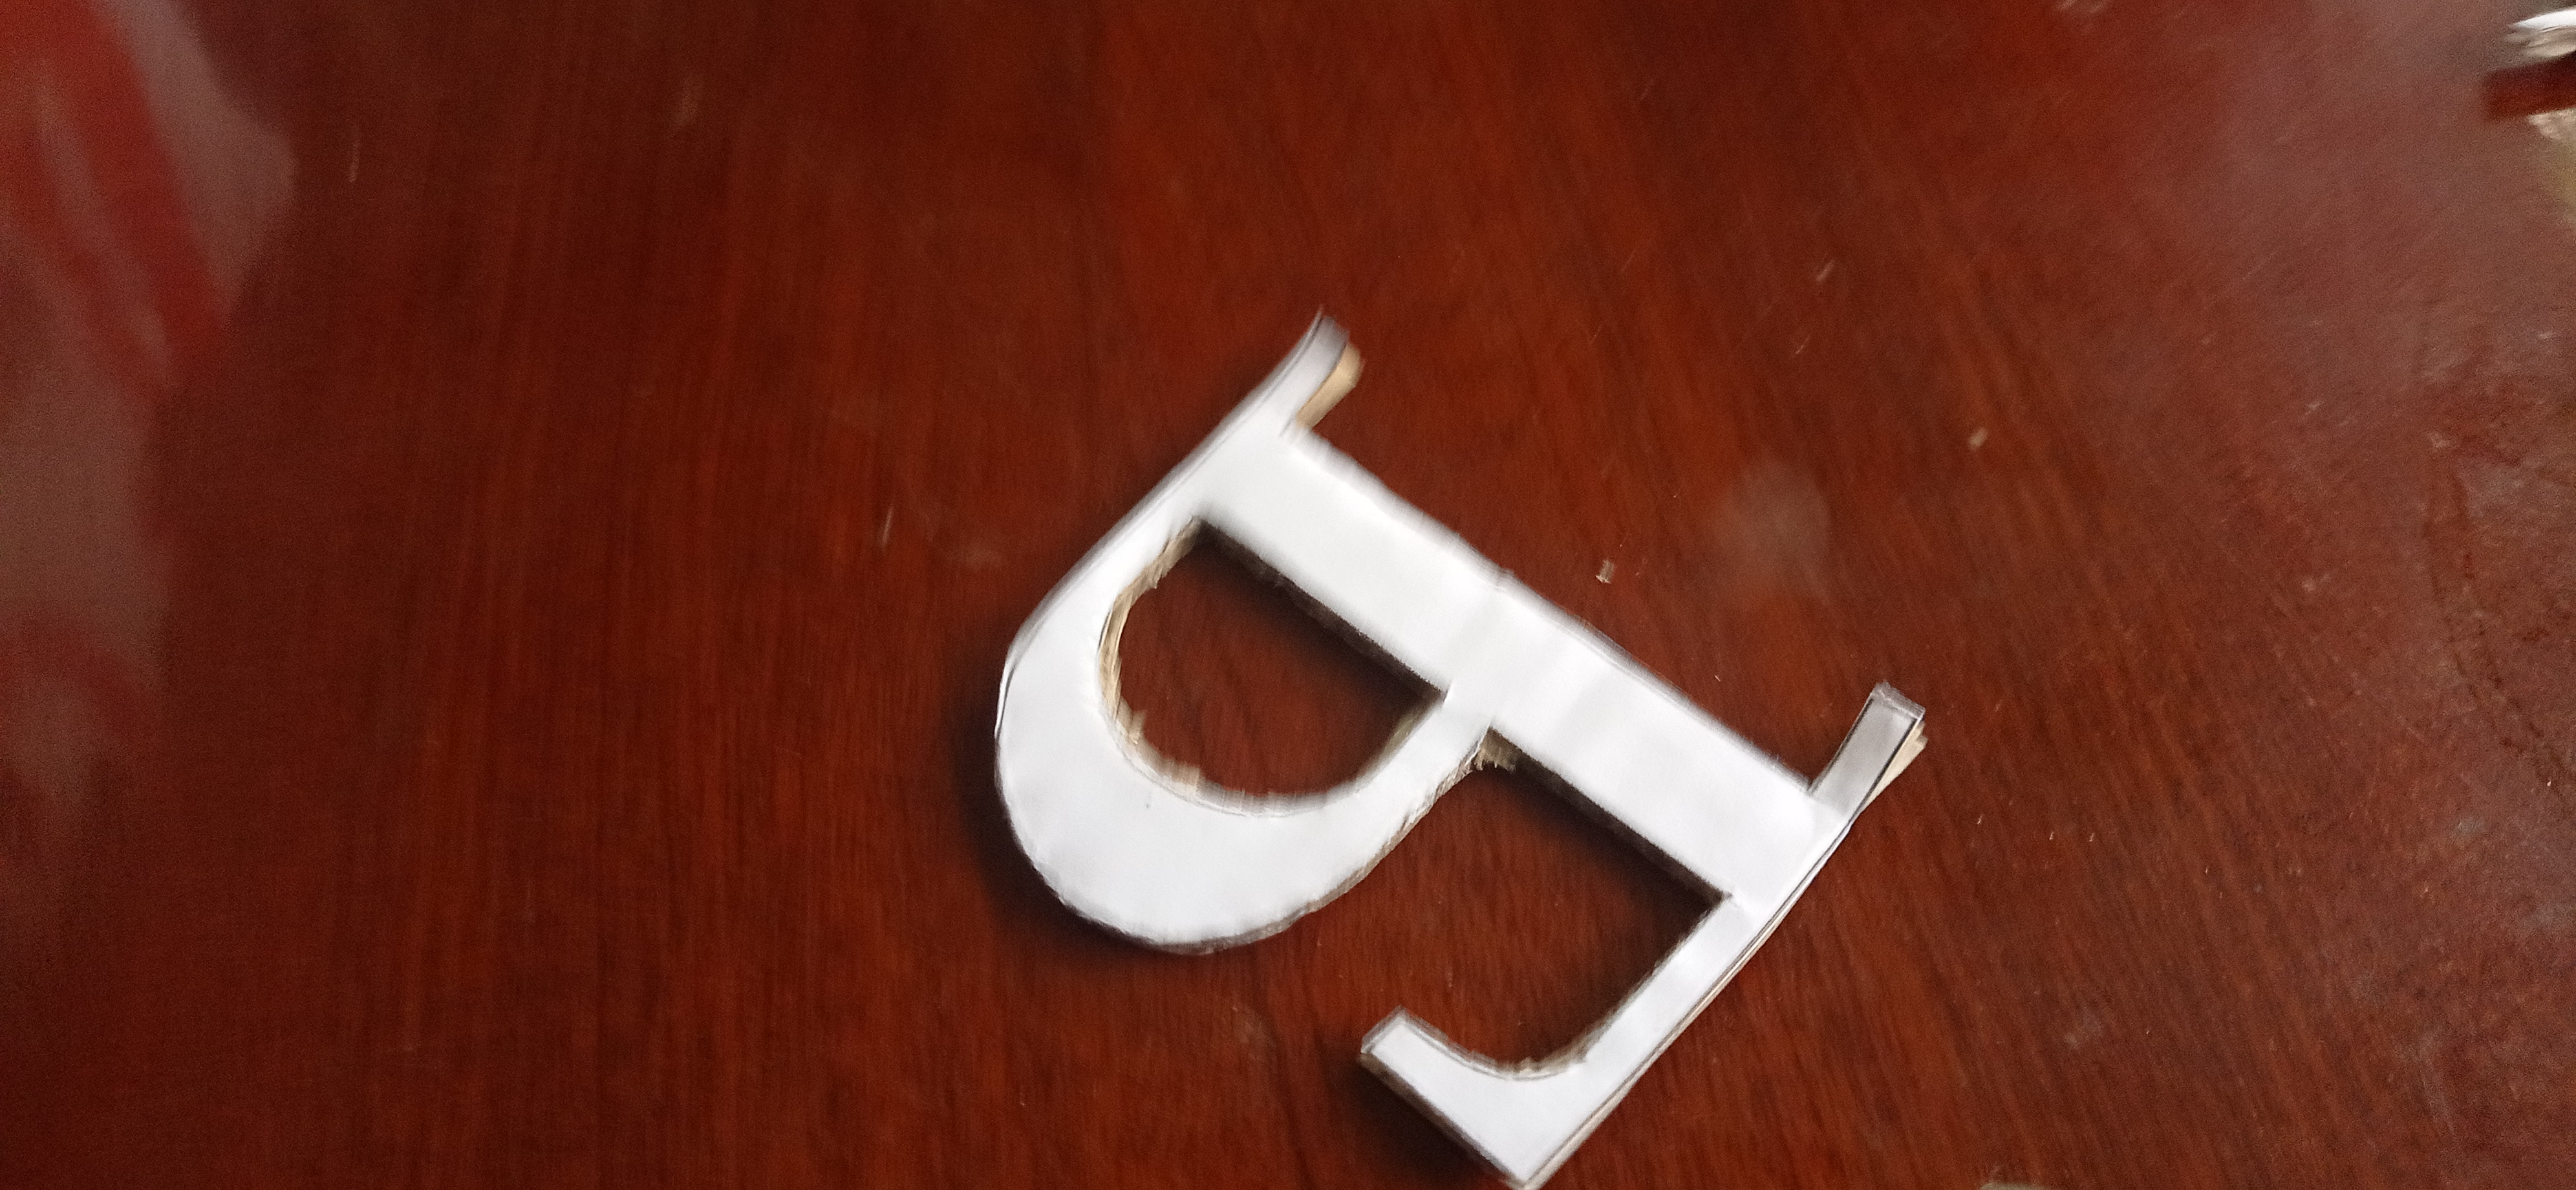b: (973, 301, 1932, 1190)
